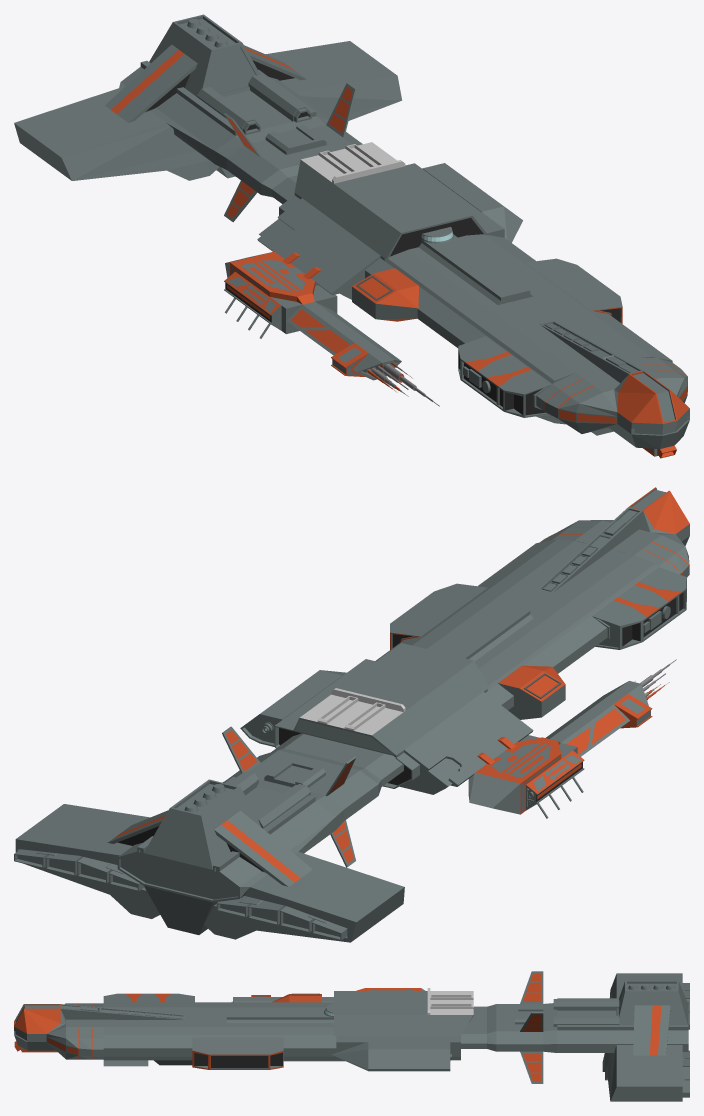
Rendered from Aurora_Class_Warship.obj.
The picture shows the model from 3 angles, top to bottom: view 1: azimuth 30°, elevation 25°; view 2: azimuth 150°, elevation 25°; view 3: azimuth 270°, elevation 25°; orthographic projection. The views are drawn at different scales.
Visible parts, largest first — view 1: Mesh6_Model; view 2: Mesh6_Model; view 3: Mesh6_Model.
Boxes of the visible parts, x1=… form: Mesh6_Model: x1=14, y1=14, x2=689, y2=458; Mesh6_Model: x1=14, y1=487, x2=689, y2=942; Mesh6_Model: x1=14, y1=971, x2=689, y2=1101.
Size of the model in its own units: 0.7731 by 0.2588 by 1.94.
